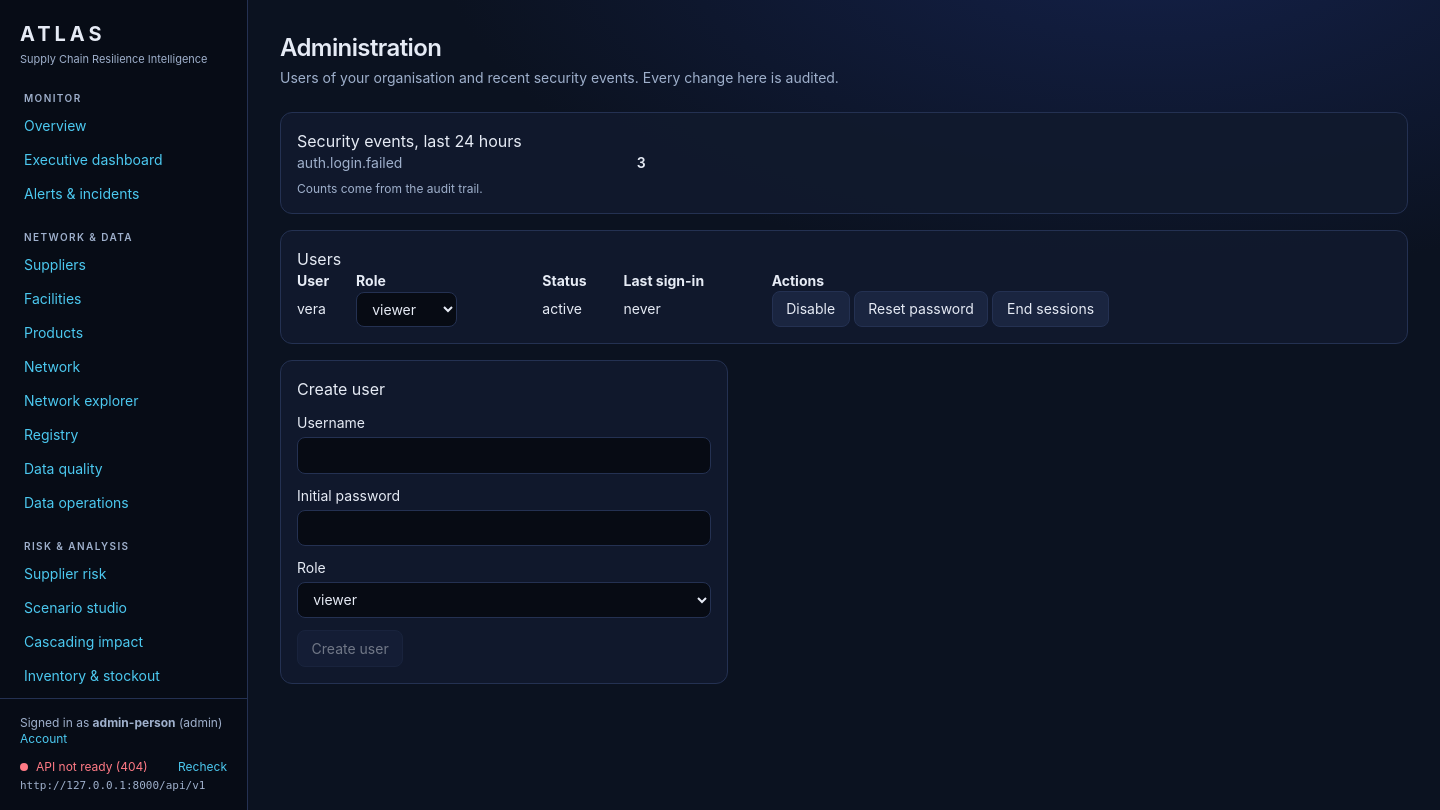
permission-aware navigation › lists users and shows a reset token once for an administrator
The width and height of the screenshot is (1440, 810).
expect the text "vera" is shown: met, box [297,291,356,327]
expect the text "auth.login.failed" is shown: met, box [297,153,402,173]
Click the button "Reset password".
click(921, 309)  # box [854,291,988,327]
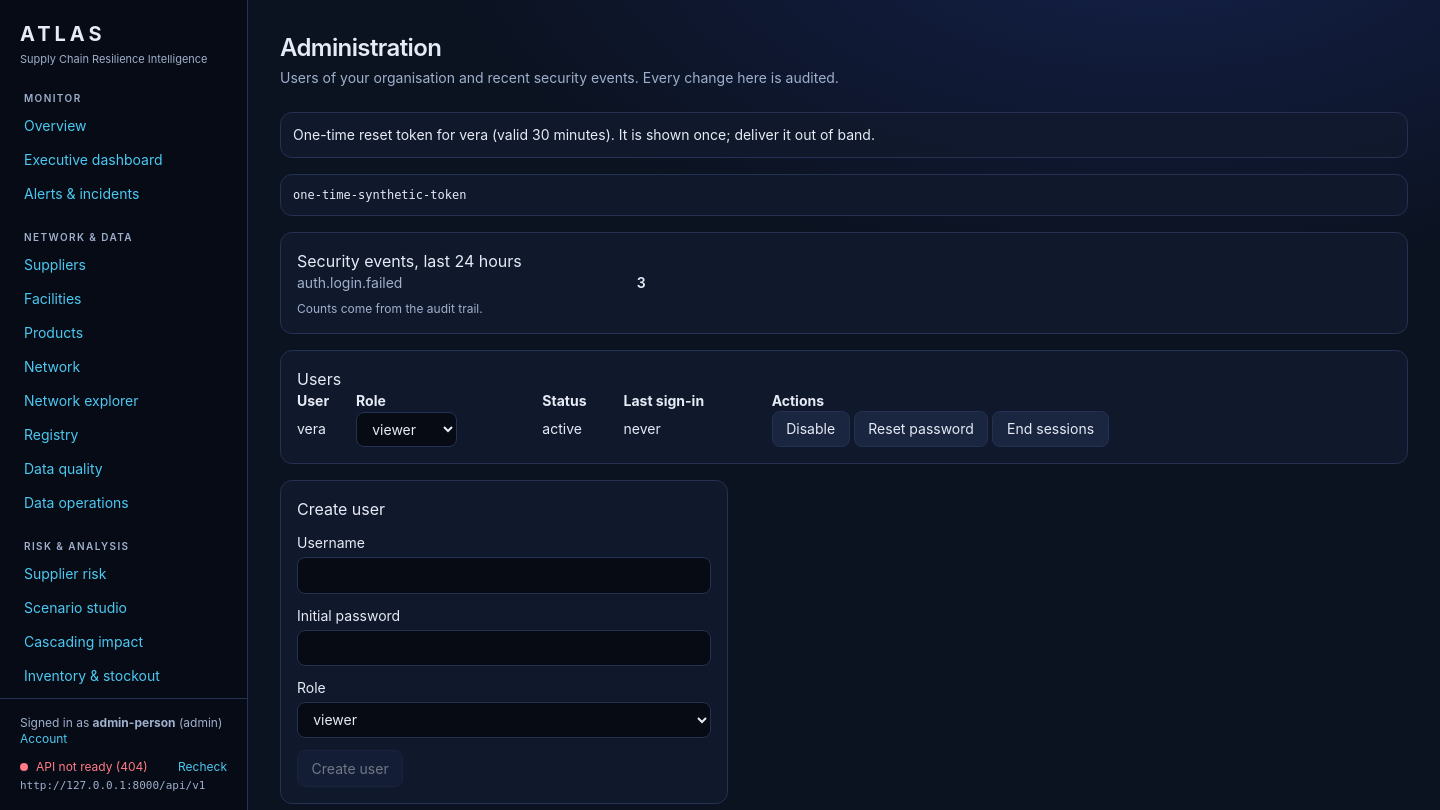
expect the text named "Reset token" reads "one-time-synthetic-token": met, box [293,188,466,202]
